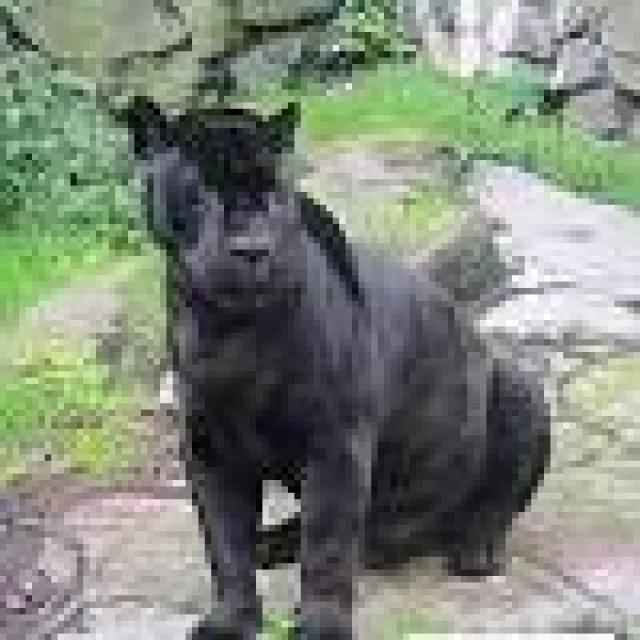Jaguar: (128, 83, 538, 640)
